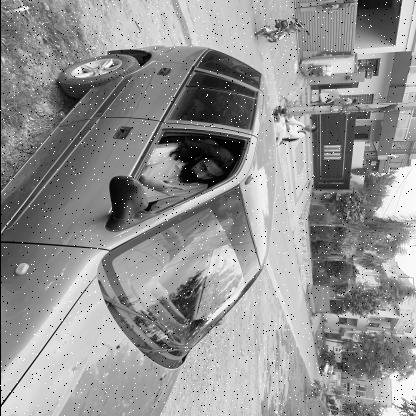no_seatbelt: (138, 134, 238, 196)
